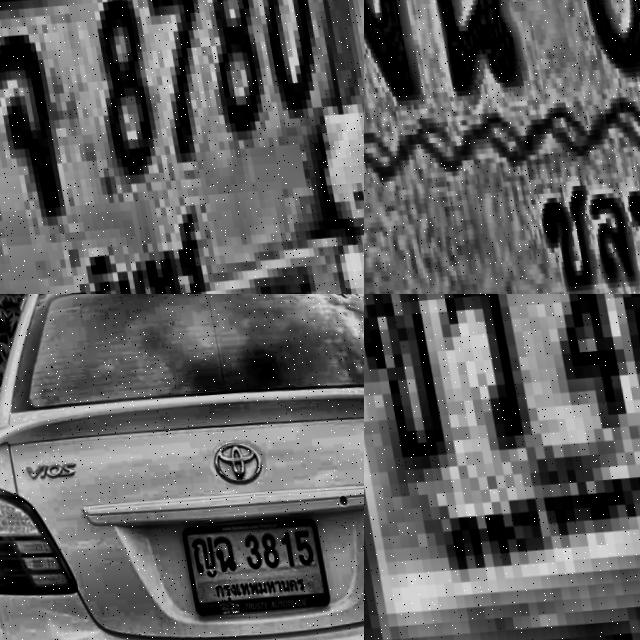license-plate: (0, 0, 364, 294), (364, 294, 640, 640), (364, 0, 640, 294), (173, 513, 327, 623)
